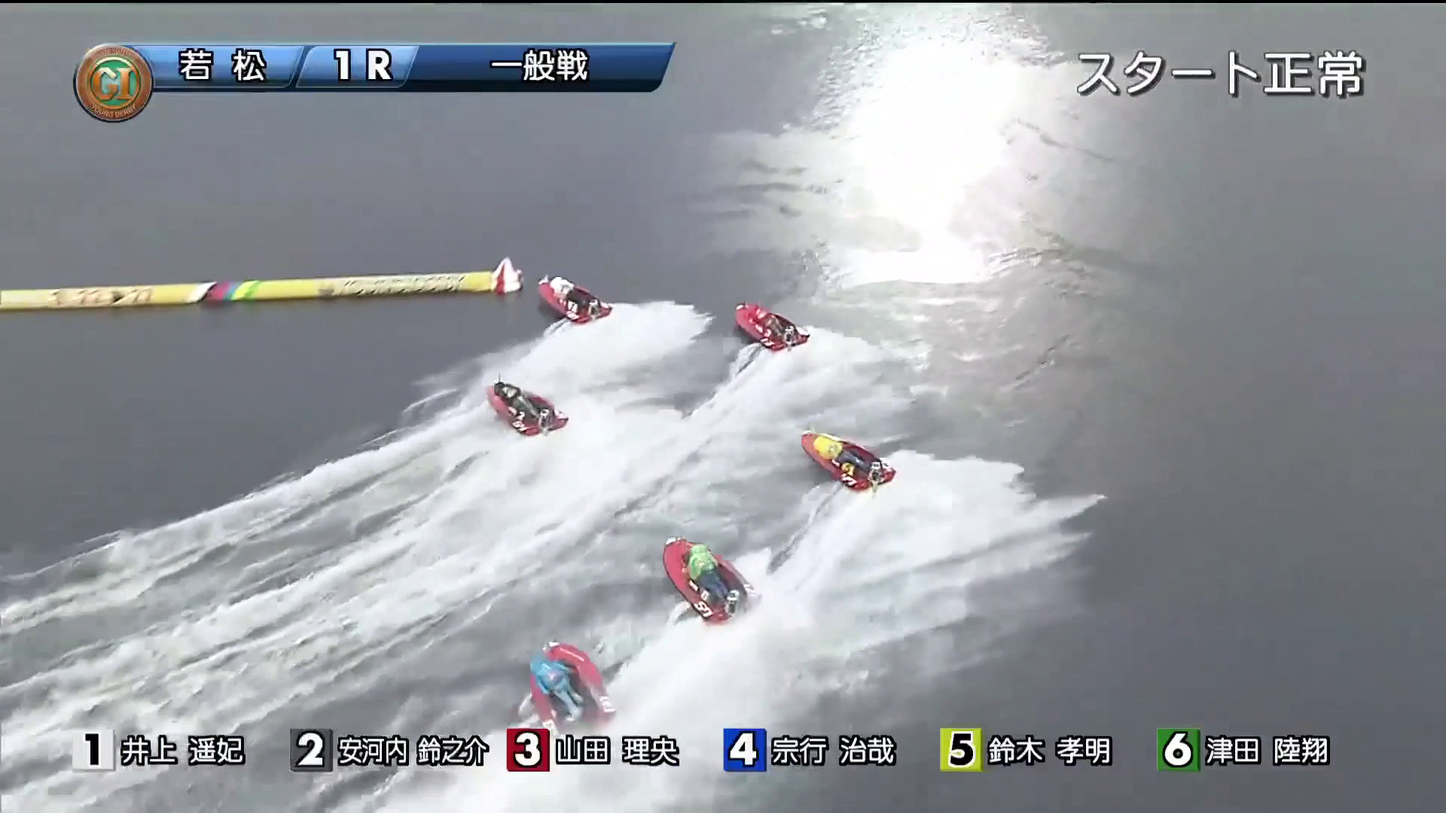１号艇: (538, 277, 609, 330)
２号艇: (473, 375, 602, 435)
３号艇: (727, 302, 825, 349)
４号艇: (681, 536, 815, 601)
５号艇: (514, 662, 638, 717)
６号艇: (804, 431, 904, 488)
